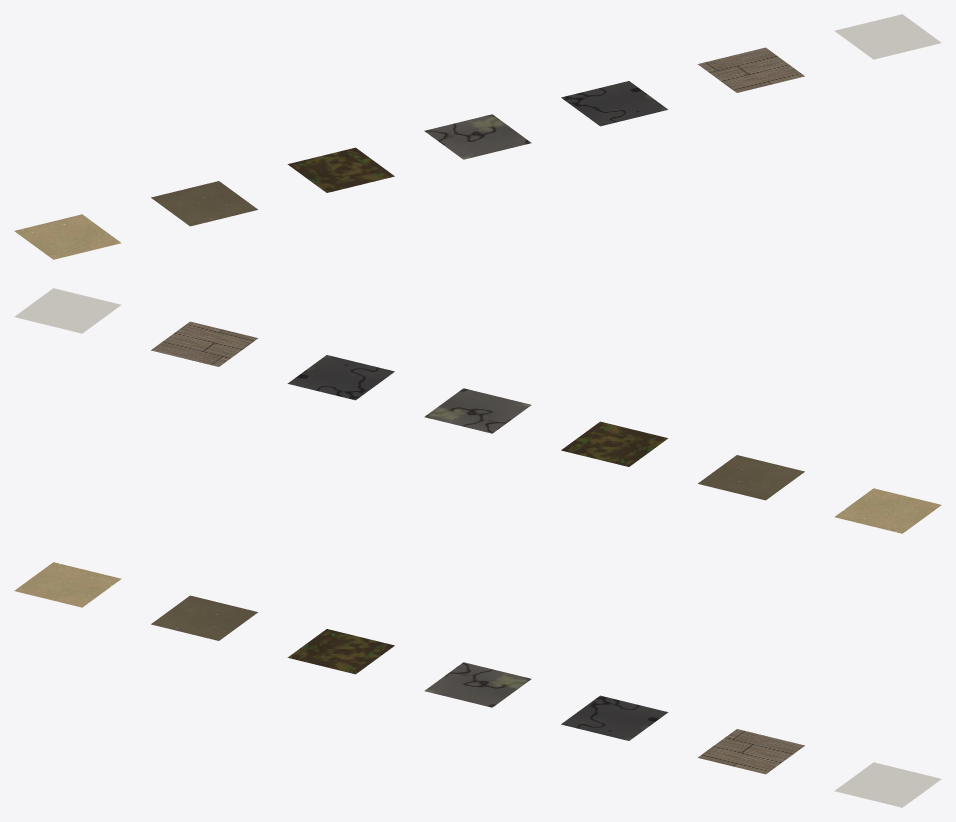
The model's file is terrain_mats.glb.
3 renders of one model, top to bottom at view 1: azimuth 30°, elevation 25°; view 2: azimuth 150°, elevation 25°; view 3: azimuth 330°, elevation 25°, orthographic.
Visible parts, largest first — view 1: boat_caverock, boat_deck, boat_jungle, boat_marble, boat_rock, boat_sand, boat_wetsand; view 2: boat_caverock, boat_deck, boat_jungle, boat_marble, boat_rock, boat_sand, boat_wetsand; view 3: boat_caverock, boat_deck, boat_jungle, boat_marble, boat_rock, boat_sand, boat_wetsand.
Part boxes in pixels (x1=…): boat_caverock: x1=561, y1=81, x2=668, y2=126; boat_deck: x1=698, y1=47, x2=804, y2=92; boat_jungle: x1=287, y1=147, x2=394, y2=192; boat_marble: x1=834, y1=14, x2=941, y2=59; boat_rock: x1=424, y1=114, x2=531, y2=159; boat_sand: x1=14, y1=214, x2=121, y2=259; boat_wetsand: x1=151, y1=181, x2=257, y2=226; boat_caverock: x1=287, y1=355, x2=394, y2=400; boat_deck: x1=151, y1=321, x2=257, y2=366; boat_jungle: x1=561, y1=421, x2=668, y2=466; boat_marble: x1=14, y1=288, x2=121, y2=333; boat_rock: x1=424, y1=388, x2=531, y2=433; boat_sand: x1=834, y1=488, x2=941, y2=533; boat_wetsand: x1=698, y1=455, x2=804, y2=500; boat_caverock: x1=561, y1=695, x2=668, y2=740; boat_deck: x1=698, y1=729, x2=804, y2=774; boat_jungle: x1=287, y1=629, x2=394, y2=674; boat_marble: x1=834, y1=762, x2=941, y2=807; boat_rock: x1=424, y1=662, x2=531, y2=707; boat_sand: x1=14, y1=562, x2=121, y2=607; boat_wetsand: x1=151, y1=595, x2=257, y2=640.
Bounding box in the file's own units: 6.5 × 0 × 0.5.
7 materials, 6 textured.
